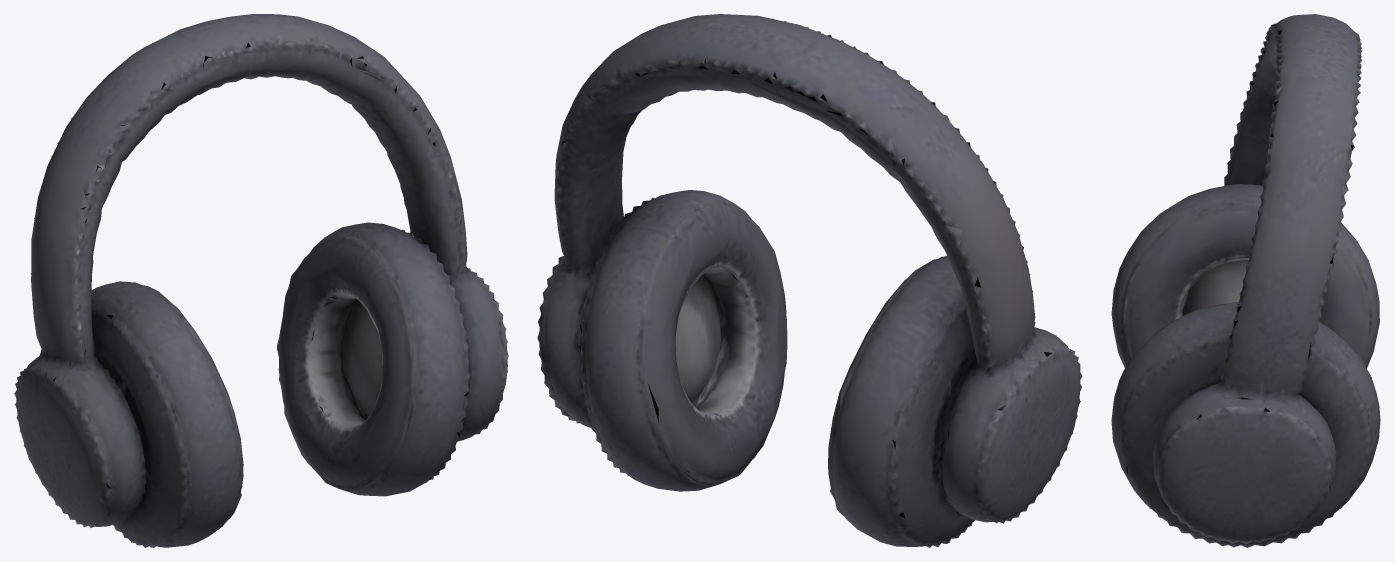
The model's file is headphones.glb.
The picture shows the model from 3 angles, left to right: view 1: azimuth 30°, elevation 25°; view 2: azimuth 150°, elevation 25°; view 3: azimuth 270°, elevation 25°; orthographic projection. The views are drawn at different scales.
Parts seen in each view (by area): view 1: node_0; view 2: node_0; view 3: node_0.
Boxes of the visible parts, left/top/right/bottom form: node_0: left=14, top=14, right=508, bottom=547; node_0: left=537, top=14, right=1082, bottom=547; node_0: left=1111, top=14, right=1380, bottom=547.
Bounding box in the file's own units: 0.46 × 0.4688 × 0.2535.
1 material, 1 textured.
